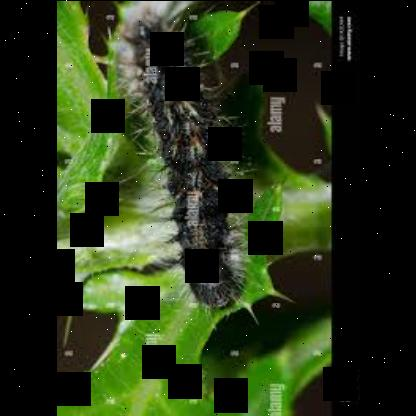oruga: (114, 5, 256, 311)
